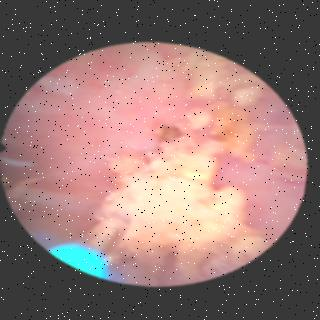fiber: (53, 247, 110, 278)
stone: (96, 102, 264, 278)
